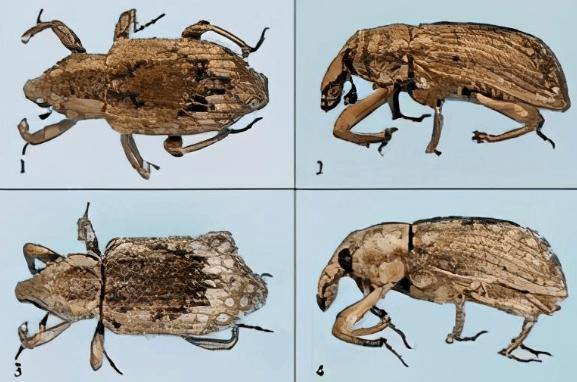Curculionidae: (14, 201, 275, 376), (17, 9, 270, 180), (316, 215, 569, 369), (320, 20, 572, 157)
